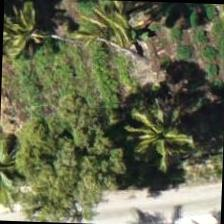Kelapa_Sawit: (116, 94, 208, 186), (75, 0, 168, 72), (0, 120, 47, 213)
